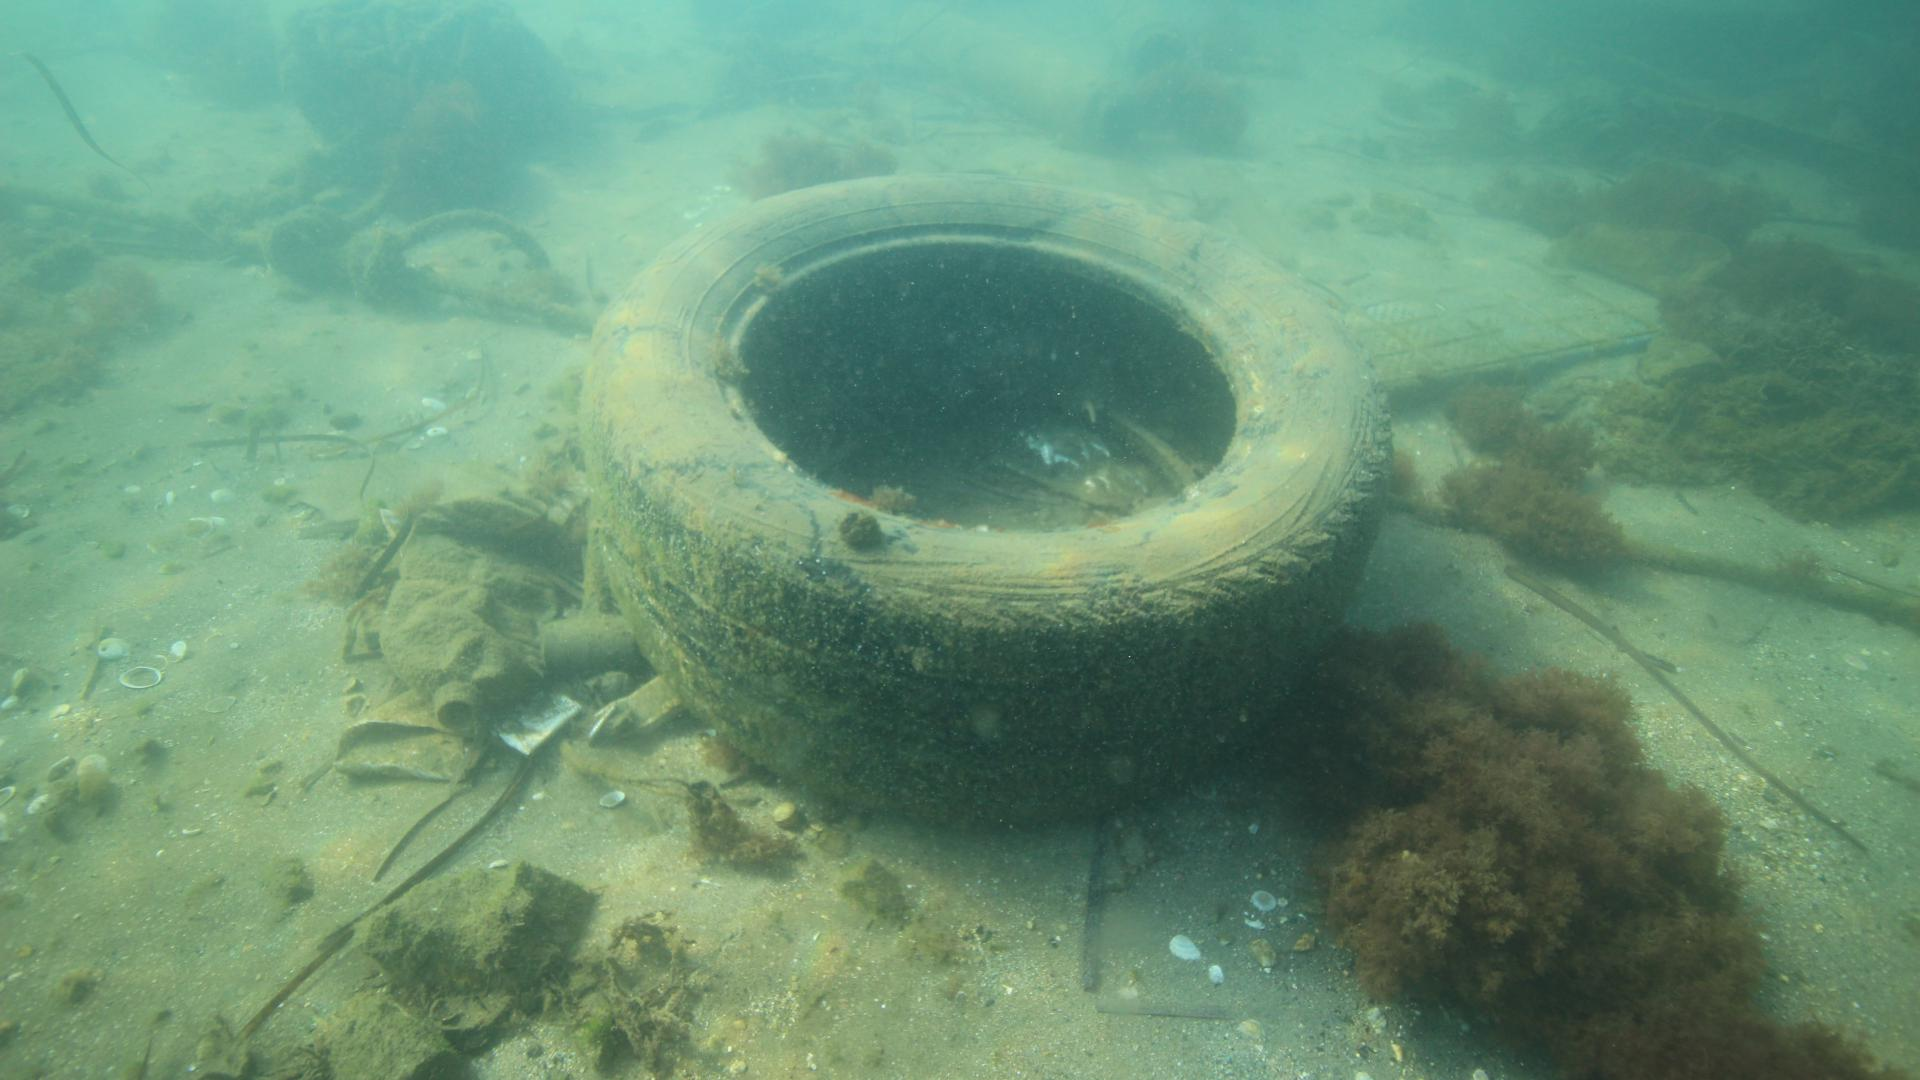tire: (568, 166, 1386, 832)
